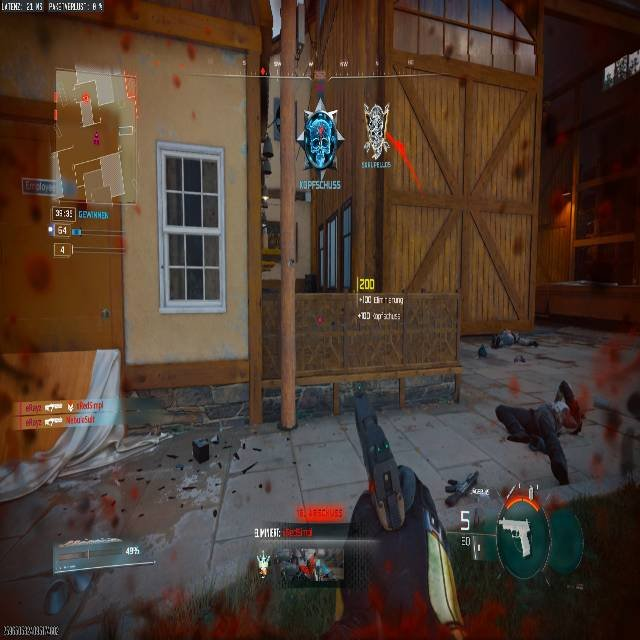player: (300, 99, 344, 178)
